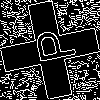P: (25, 25, 77, 68)
